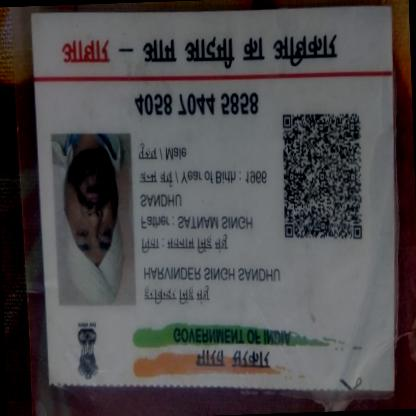aadhaar_card: (31, 3, 406, 391)
